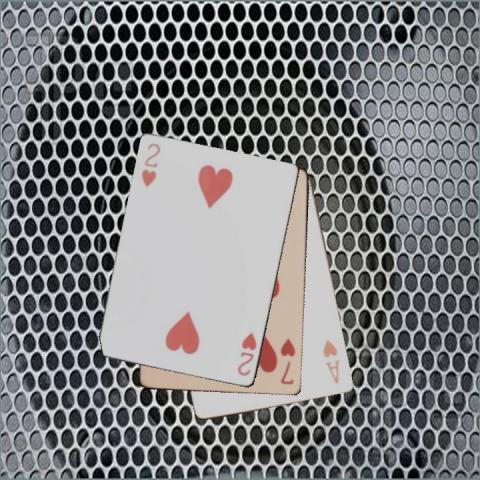2h: (234, 329, 258, 378), (139, 140, 162, 189)
7h: (278, 336, 298, 386)
Ah: (320, 336, 341, 385)
